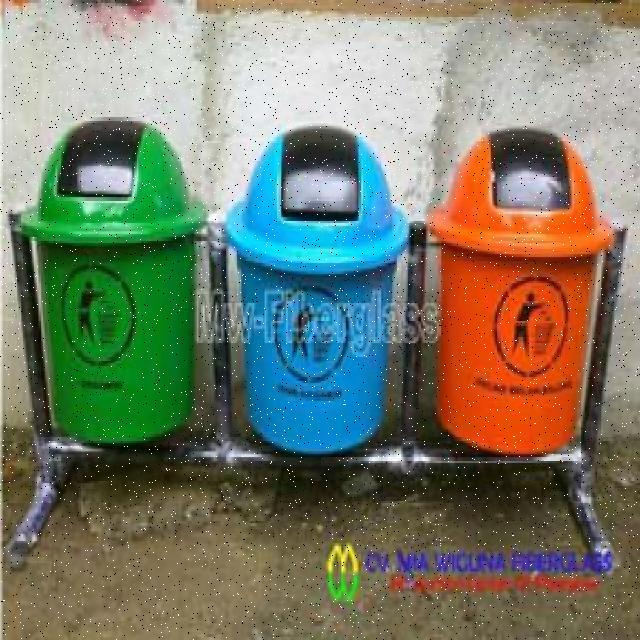garbage container: (14, 110, 217, 467), (219, 115, 418, 468), (425, 124, 622, 473)
